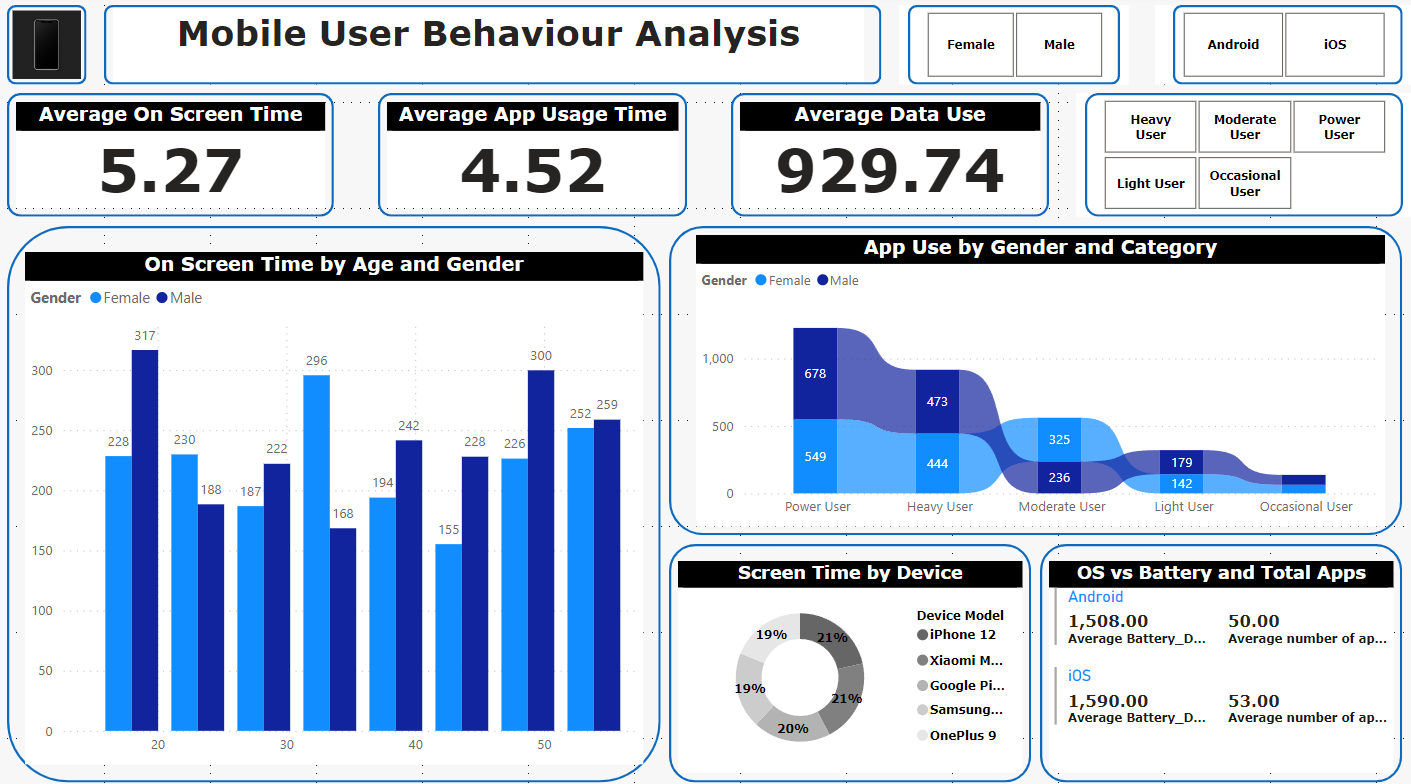

What the dashboard file says about the page in this screenshot:
{"tool":"powerbi","page":{"name":"Dashboard","canvas":[1280,720],"ordinal":0},"visuals":[{"type":"card","title":"Average On Screen Time","fields":{"Values":["Avg(user_behavior_data_P_E.Screen On Time (hours/day))"]},"box":[16,96,280,96],"z":0},{"type":"card","title":"Average Data Use","fields":{"Values":["Avg(user_behavior_data_P_E.Data Usage (MB/day))"]},"box":[672,96,272,96],"z":1000},{"type":"shape","box":[664,88,288,112],"z":2000},{"type":"slicer","fields":{"Values":["user_behavior_data_P_E.Gender"]},"box":[816,8,208,72],"z":3000},{"type":"shape","box":[8,208,592,504],"z":4000},{"type":"textbox","box":[104,8,680,72],"z":5000},{"type":"shape","box":[96,8,704,72],"z":6000},{"type":"clusteredColumnChart","title":"On Screen Time by Age and Gender","fields":{"Category":["user_behavior_data_P_E.Age (bins)"],"Y":["Sum(user_behavior_data_P_E.Screen On Time (hours/day))"],"Series":["user_behavior_data_P_E.Gender"]},"box":[24,232,560,464],"z":7000},{"type":"shape","box":[608,496,328,216],"z":8000},{"type":"donutChart","title":"Screen Time by Device","fields":{"Category":["user_behavior_data_P_E.Device Model"],"Y":["Sum(user_behavior_data_P_E.Screen On Time (hours/day))"]},"box":[616,512,312,192],"z":9000},{"type":"shape","box":[944,496,328,216],"z":10000},{"type":"multiRowCard","title":"OS vs Battery and Total Apps","fields":{"Values":["user_behavior_data_P_E.Operating System","Measures_.Average Battery_Drain (mAh/Day)","Measures_.Average number of apps_installed"]},"box":[952,512,312,192],"z":11000},{"type":"shape","box":[608,208,664,280],"z":12000},{"type":"slicer","fields":{"Values":["user_behavior_data_P_E.User Behaviour Catagory"]},"box":[976,88,304,112],"z":13000},{"type":"ribbonChart","title":"App Use by Gender and Category","fields":{"Category":["user_behavior_data_P_E.User Behaviour Catagory"],"Y":["Sum(user_behavior_data_P_E.App Usage Time (Hrs/day))"],"Series":["user_behavior_data_P_E.Gender"]},"box":[632,216,624,264],"z":14000},{"type":"shape","box":[8,88,296,112],"z":15000},{"type":"slicer","fields":{"Values":["user_behavior_data_P_E.Operating System"]},"box":[1048,8,232,72],"z":16000},{"type":"card","title":"Average App Usage Time","fields":{"Values":["Avg(user_behavior_data_P_E.App Usage Time (Hrs/day))"]},"box":[352,96,264,96],"z":17000},{"type":"shape","box":[344,88,280,112],"z":18000},{"type":"shape","box":[984,88,288,112],"z":19000},{"type":"shape","box":[1064,8,208,72],"z":20000},{"type":"shape","box":[824,8,192,72],"z":21000},{"type":"image","box":[8,8,72,72],"z":22000},{"type":"shape","box":[8,8,72,72],"z":23000}]}

Visuals, with their boxes in screenshot pixels (x1, y1, x2, y2), scaled from the page's 1280x720 canvas onto the 1411x784 screenshot:
"Average On Screen Time" card: 18:105:326:209
"Average Data Use" card: 741:105:1041:209
shape: 732:96:1049:218
slicer - user_behavior_data_P_E.Gender: 900:9:1129:87
shape: 9:226:661:775
textbox: 115:9:864:87
shape: 106:9:882:87
"On Screen Time by Age and Gender" clusteredColumnChart: 26:253:644:758
shape: 670:540:1032:775
"Screen Time by Device" donutChart: 679:558:1023:767
shape: 1041:540:1402:775
"OS vs Battery and Total Apps" multiRowCard: 1049:558:1393:767
shape: 670:226:1402:531
slicer - user_behavior_data_P_E.User Behaviour Catagory: 1076:96:1410:218
"App Use by Gender and Category" ribbonChart: 697:235:1385:523
shape: 9:96:335:218
slicer - user_behavior_data_P_E.Operating System: 1155:9:1410:87
"Average App Usage Time" card: 388:105:679:209
shape: 379:96:688:218
shape: 1085:96:1402:218
shape: 1173:9:1402:87
shape: 908:9:1120:87
image: 9:9:88:87
shape: 9:9:88:87
